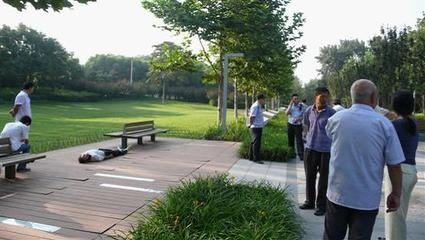falling: (72, 141, 134, 164)
